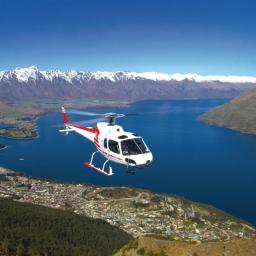helicopter: (58, 107, 172, 179)
